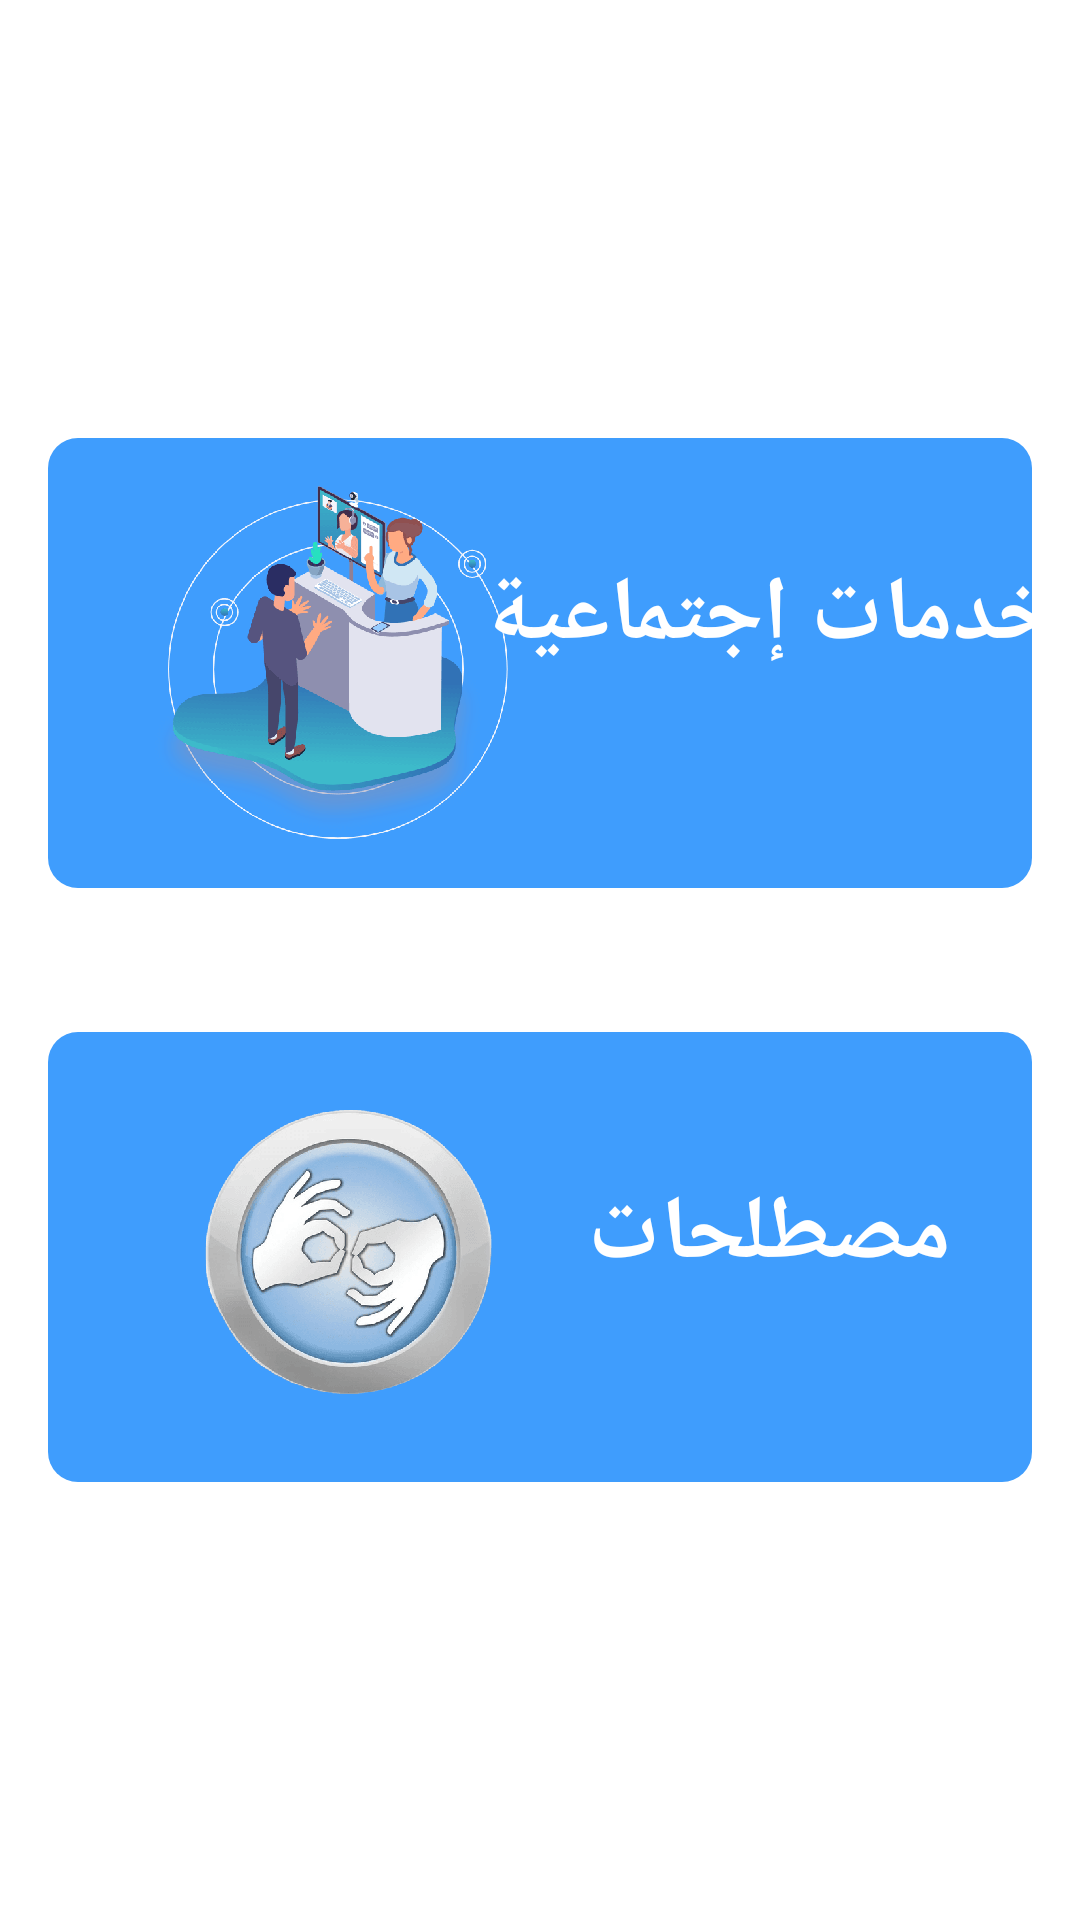

Screen size 1080px×1920px. Icon name, then its center in pixels as point (x, y):
service: point (338, 662)
